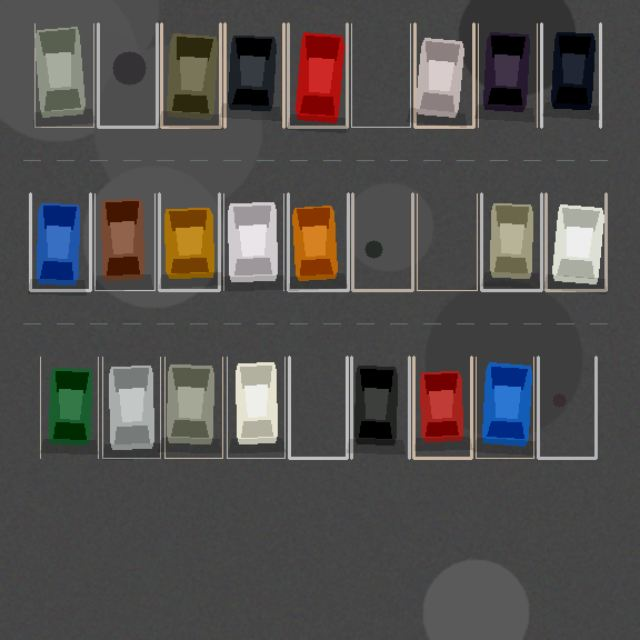space-empty: (98, 23, 157, 127), (351, 23, 410, 127), (289, 357, 347, 458), (538, 357, 596, 458), (352, 193, 412, 290), (417, 193, 477, 290)
space-occupied: (34, 23, 93, 127), (161, 23, 220, 127), (224, 23, 283, 127), (288, 23, 347, 127), (414, 23, 473, 127), (478, 23, 537, 127), (541, 23, 600, 127), (40, 357, 98, 458), (102, 357, 160, 458), (164, 357, 222, 458), (351, 357, 409, 458), (413, 357, 471, 458), (30, 193, 90, 290), (94, 193, 154, 290), (159, 193, 219, 290), (223, 193, 283, 290), (288, 193, 348, 290), (481, 193, 541, 290), (546, 193, 606, 290), (227, 357, 284, 458), (476, 357, 533, 458)
